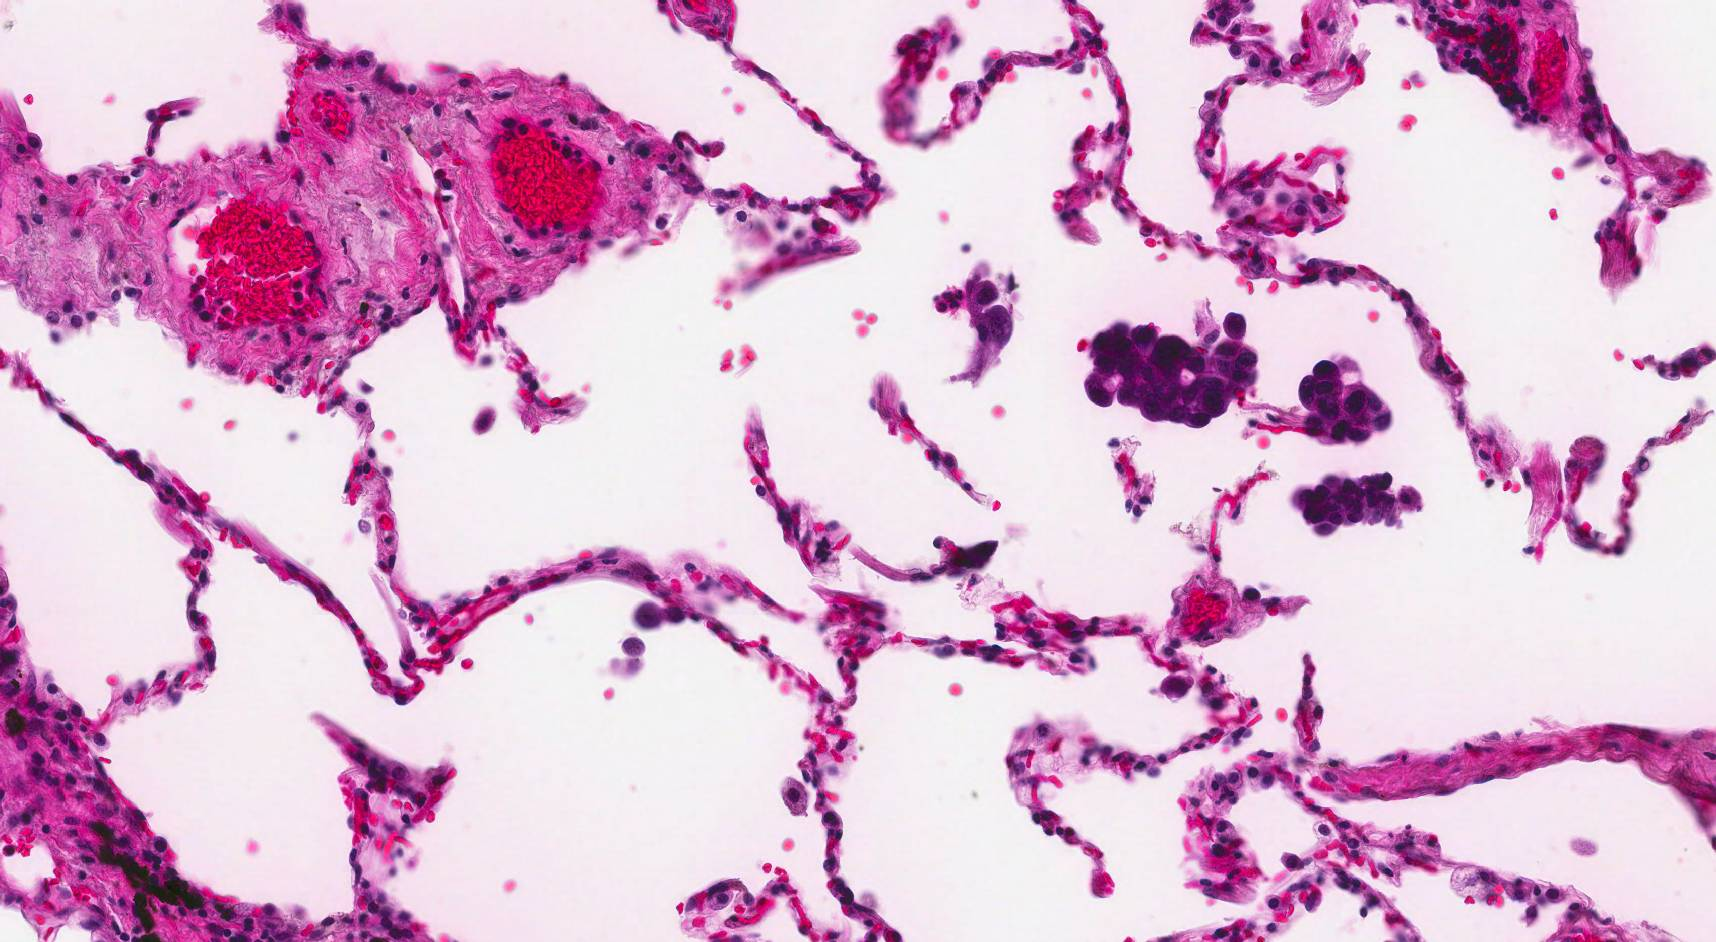stas: (1087, 320, 1258, 431), (1297, 354, 1396, 443), (1293, 469, 1421, 536)
